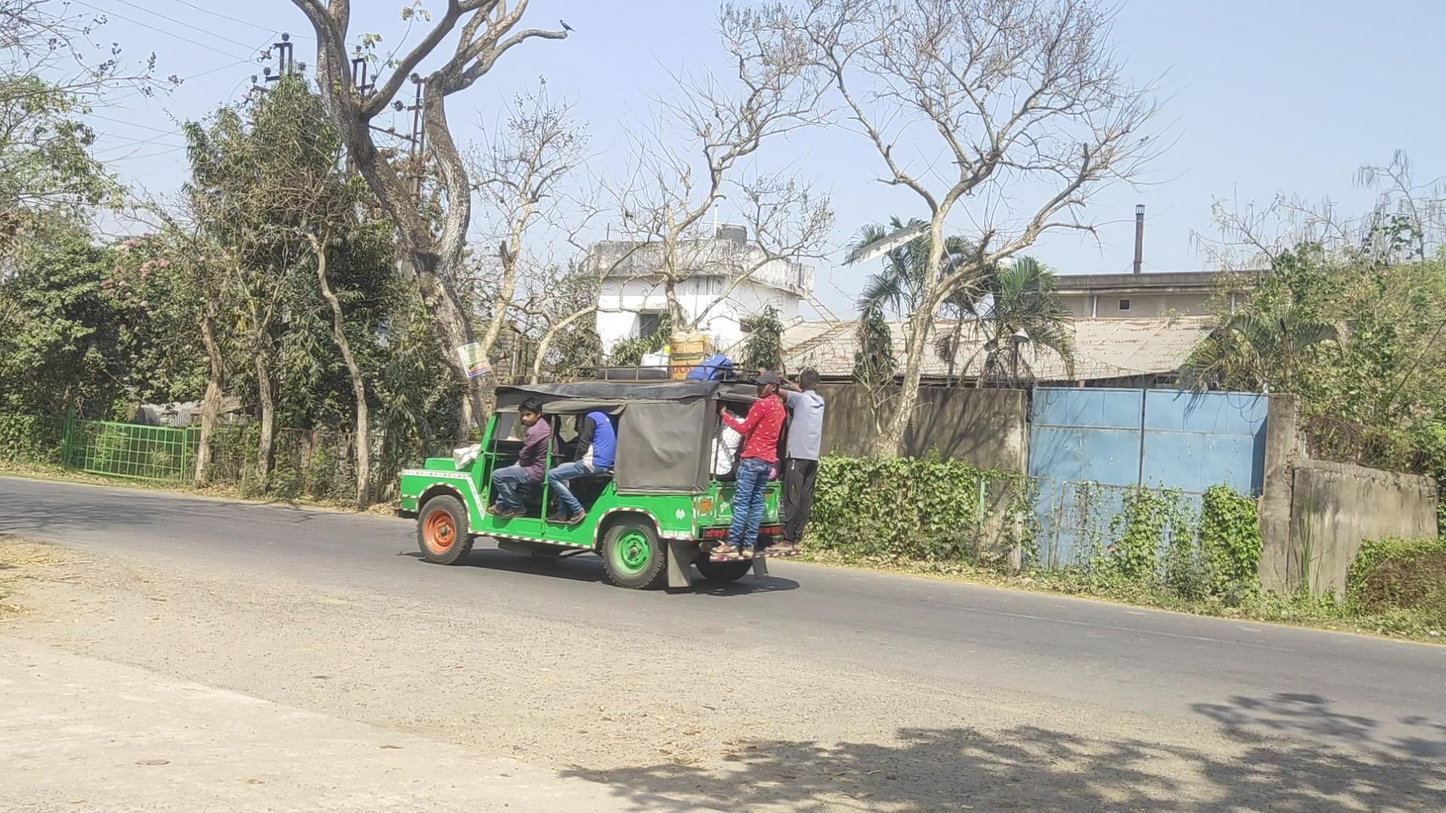car: (392, 327, 822, 587)
